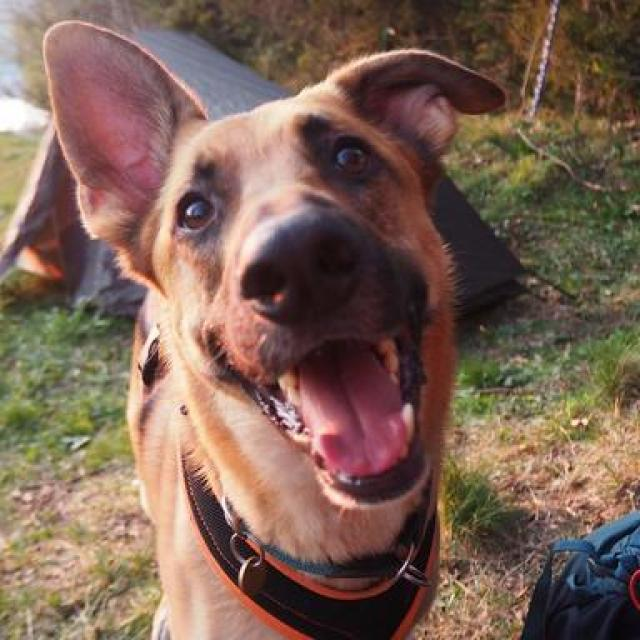adult_dog: (34, 17, 504, 634)
